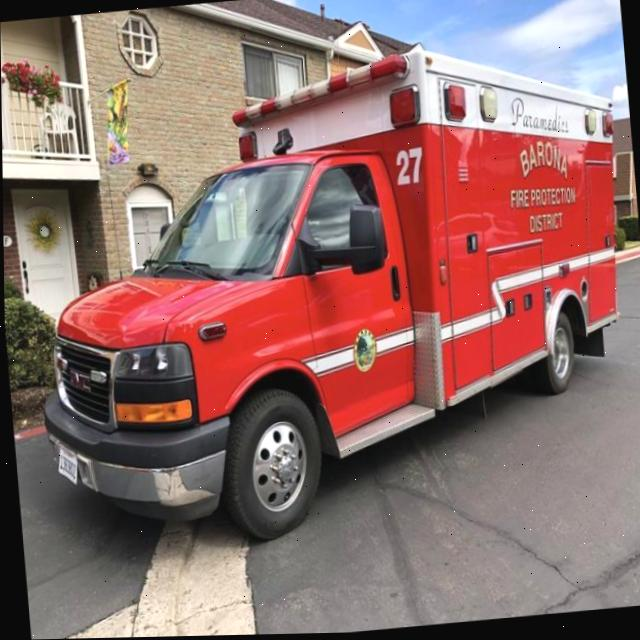emergency: (13, 49, 465, 571)
